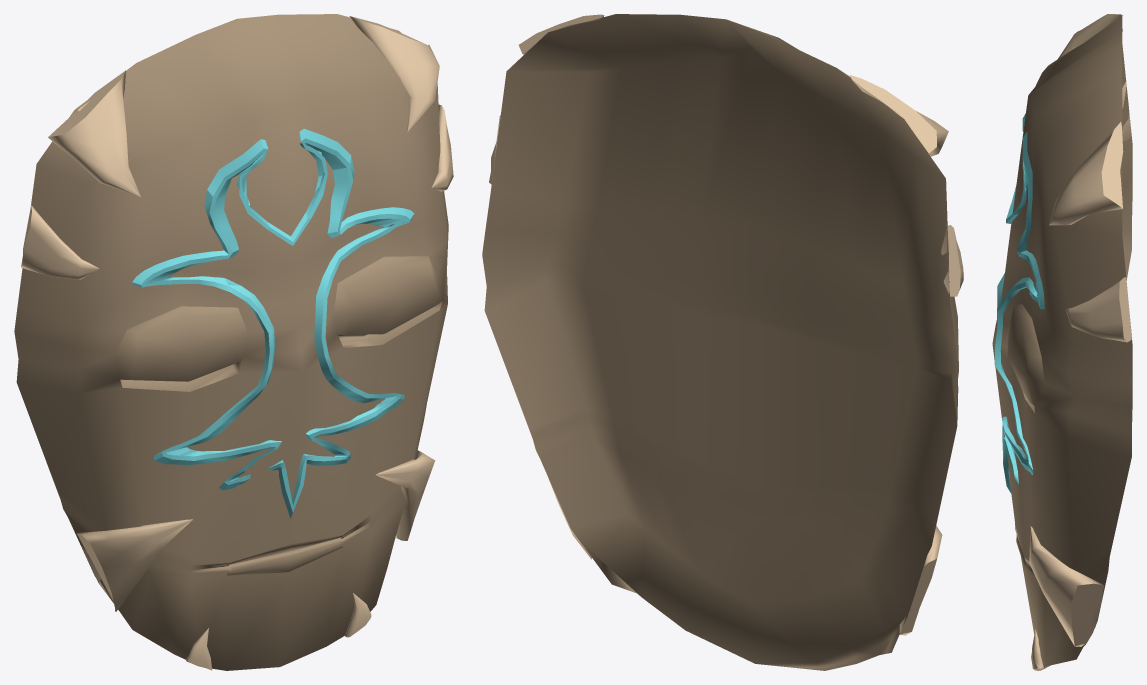
The model's file is mask1.fbx.
3 renders of one model, left to right at view 1: azimuth 30°, elevation 25°; view 2: azimuth 150°, elevation 25°; view 3: azimuth 270°, elevation 25°, orthographic. The views are drawn at different scales.
Visible parts, largest first — view 1: pCone9; view 2: pCone9; view 3: pCone9.
Boxes of the visible parts, x1,y1,x2,y2 form: pCone9: (14, 14, 453, 670); pCone9: (482, 14, 963, 670); pCone9: (992, 14, 1132, 670).
Size of the model in its own units: 6.86 by 9.3 by 1.95.
